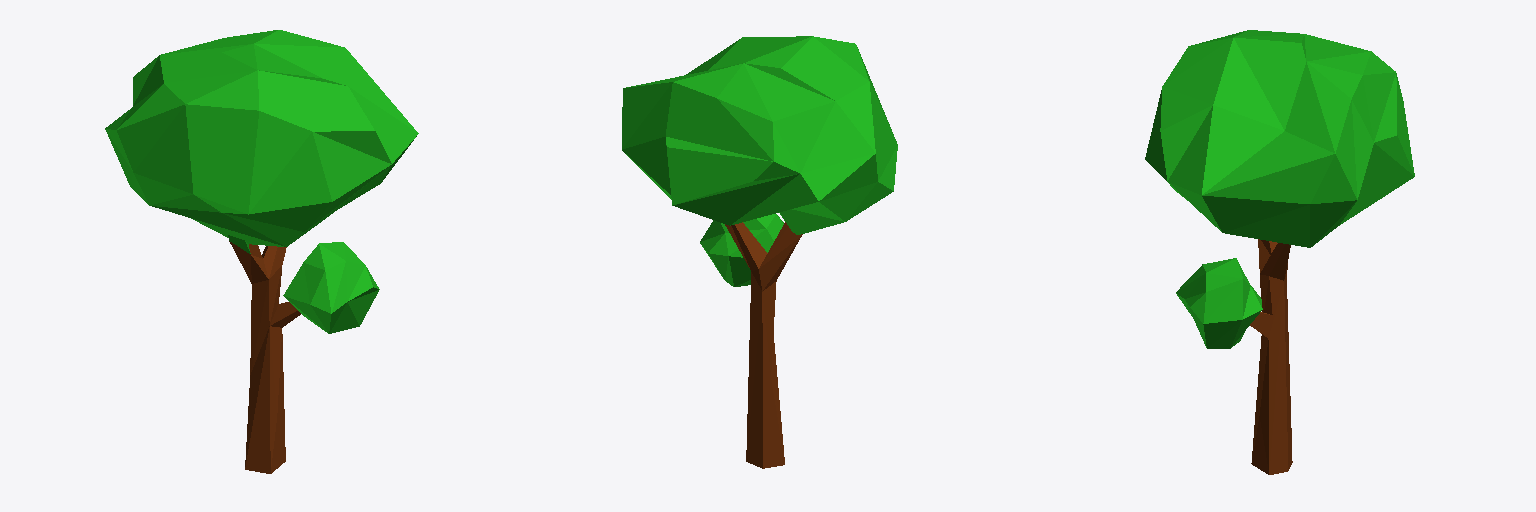
Rendered from tree2.obj.
3 views of the same model, side by side, from view 1: azimuth 30°, elevation 25°; view 2: azimuth 150°, elevation 25°; view 3: azimuth 270°, elevation 25° (orthographic).
Parts seen in each view (by area): view 1: Deciduous_1; view 2: Deciduous_1; view 3: Deciduous_1.
Boxes of the visible parts, x1,y1,x2,y2 form: Deciduous_1: [105, 30, 418, 473]; Deciduous_1: [622, 36, 897, 468]; Deciduous_1: [1145, 30, 1414, 474].
Bounding box in the file's own units: 2.52 × 4.05 × 2.38.